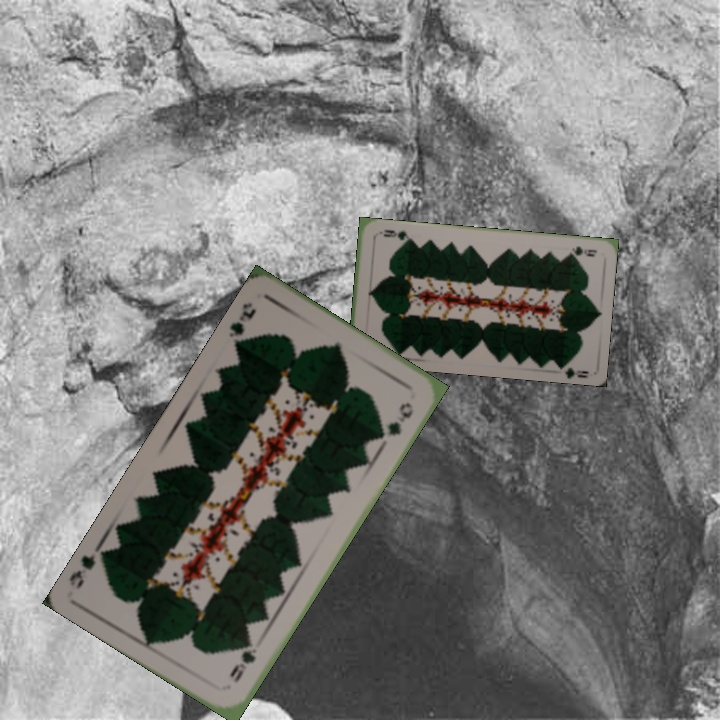G9: (224, 298, 259, 351), (225, 636, 260, 685), (564, 242, 599, 259)
